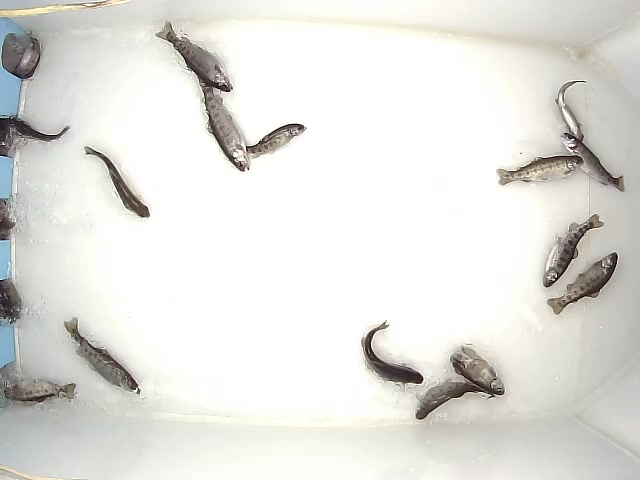fish: (61, 313, 140, 396), (154, 19, 242, 92), (82, 144, 152, 221), (542, 209, 606, 290), (546, 249, 619, 317), (201, 83, 251, 177), (359, 319, 425, 387), (563, 131, 626, 193), (414, 377, 497, 424), (493, 154, 585, 191), (450, 345, 507, 398), (555, 78, 593, 146), (239, 121, 310, 157), (1, 375, 80, 404)
